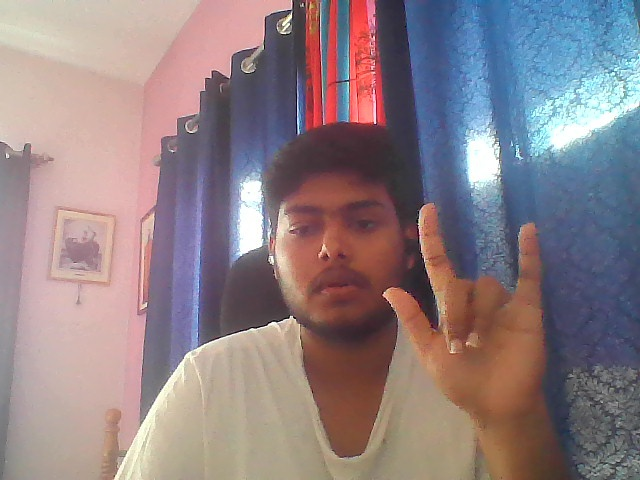I Love You: (379, 200, 559, 414)
